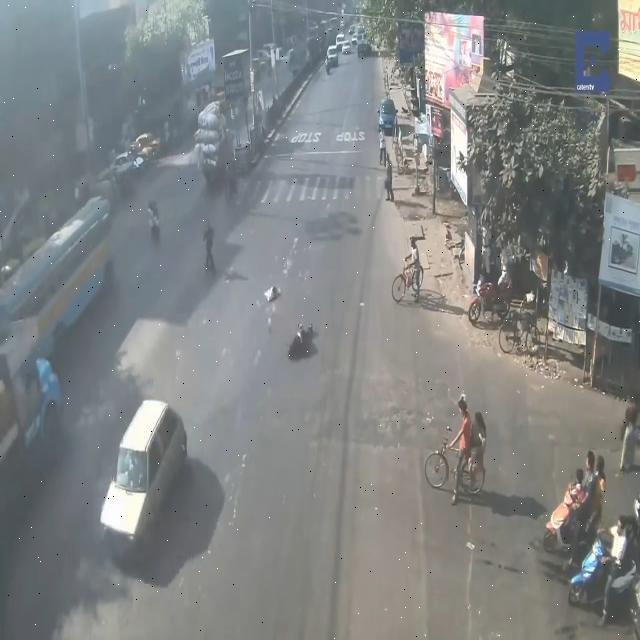accident: (97, 391, 197, 558), (286, 306, 321, 365)
